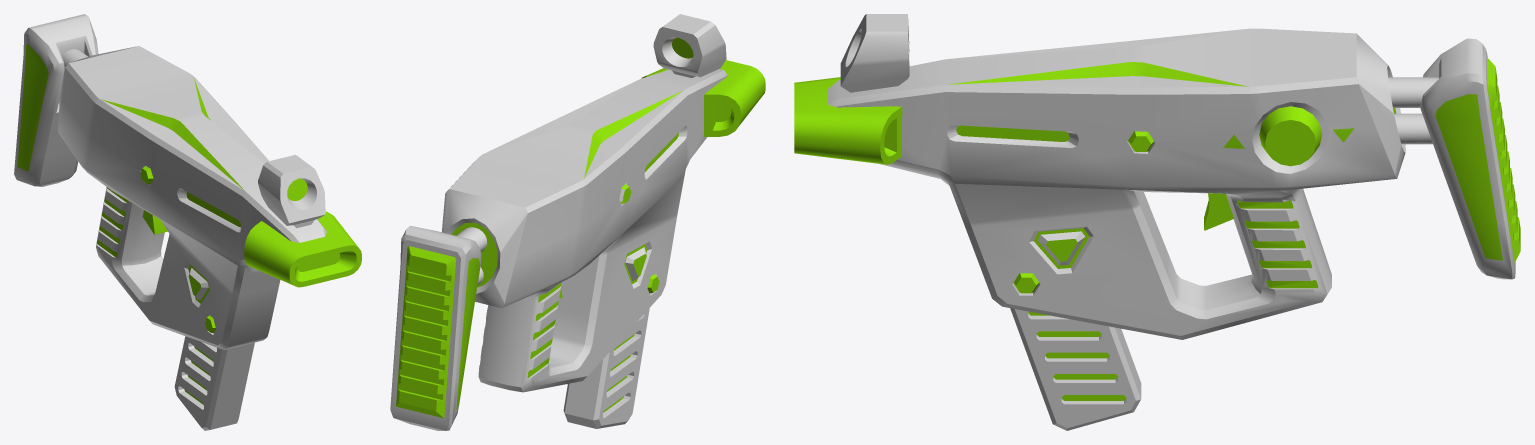
File: Rifle B Mat.fbx
3 views of the same model, side by side, from view 1: azimuth 30°, elevation 25°; view 2: azimuth 150°, elevation 25°; view 3: azimuth 270°, elevation 25° (orthographic). The views are drawn at different scales.
Parts seen in each view (by area): view 1: Rifle B Mat, Rifle B Mat.001; view 2: Rifle B Mat, Rifle B Mat.001; view 3: Rifle B Mat, Rifle B Mat.001.
Part boxes in pixels (left/top/right/bottom): Rifle B Mat: left=14, top=14, right=361, bottom=349; Rifle B Mat.001: left=174, top=336, right=254, bottom=430; Rifle B Mat: left=390, top=14, right=765, bottom=430; Rifle B Mat.001: left=563, top=274, right=655, bottom=428; Rifle B Mat: left=794, top=14, right=1520, bottom=339; Rifle B Mat.001: left=1010, top=308, right=1141, bottom=430.
Size of the model in its own units: 0.2096 by 0.5959 by 0.9808.
